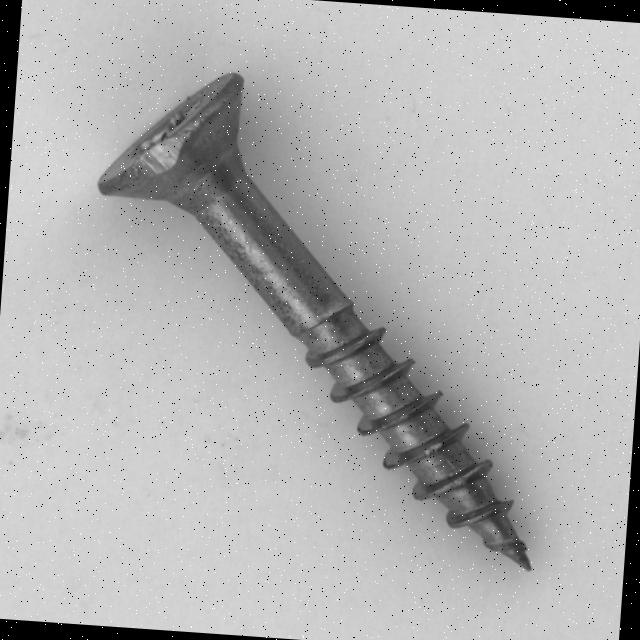scratch_head: (116, 127, 186, 189)
